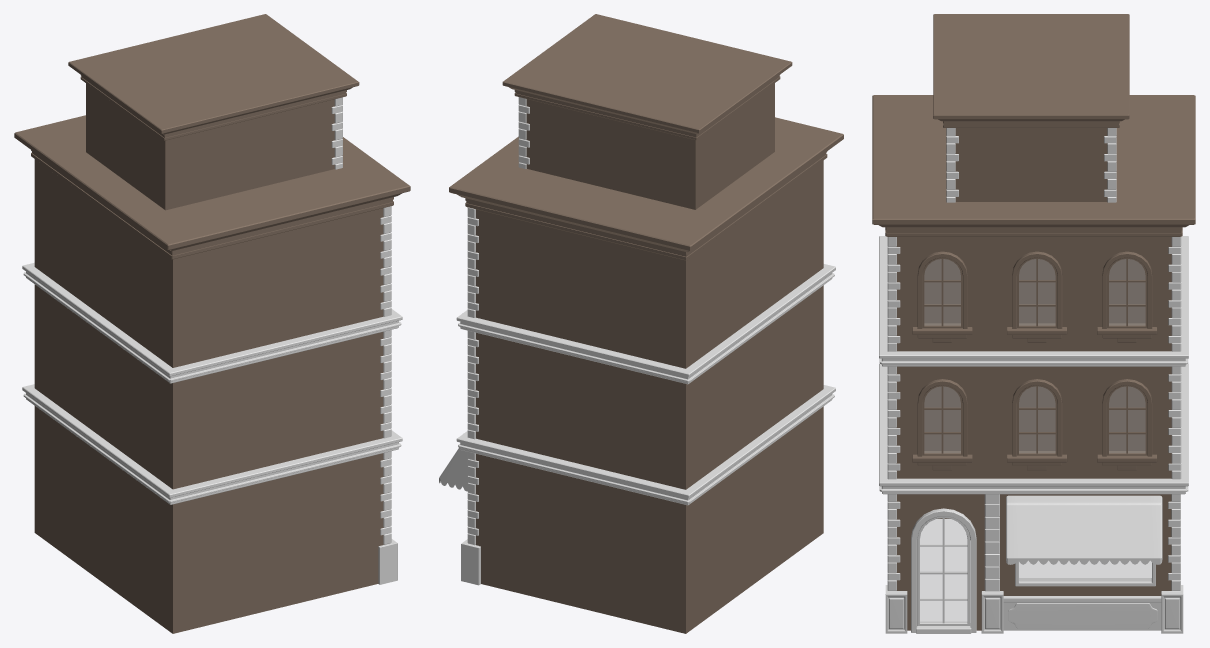
The model's file is Building_3.fbx.
The picture shows the model from 3 angles, left to right: view 1: azimuth 30°, elevation 25°; view 2: azimuth 150°, elevation 25°; view 3: azimuth 270°, elevation 25°; orthographic projection. The views are drawn at different scales.
Parts seen in each view (by area): view 1: polySurface979, polySurface980; view 2: polySurface979, polySurface980; view 3: polySurface979, polySurface980, Arch_0109_Glass.
Boxes of the visible parts, left/top/right/bottom form: polySurface979: left=14, top=14, right=410, bottom=633; polySurface980: left=22, top=97, right=402, bottom=584; polySurface979: left=449, top=14, right=843, bottom=633; polySurface980: left=439, top=97, right=835, bottom=585; polySurface979: left=872, top=14, right=1195, bottom=630; polySurface980: left=879, top=128, right=1188, bottom=633; Arch_0109_Glass: left=920, top=259, right=1151, bottom=622.
Bounding box in the file's own units: 5.93 × 10.24 × 5.88.
